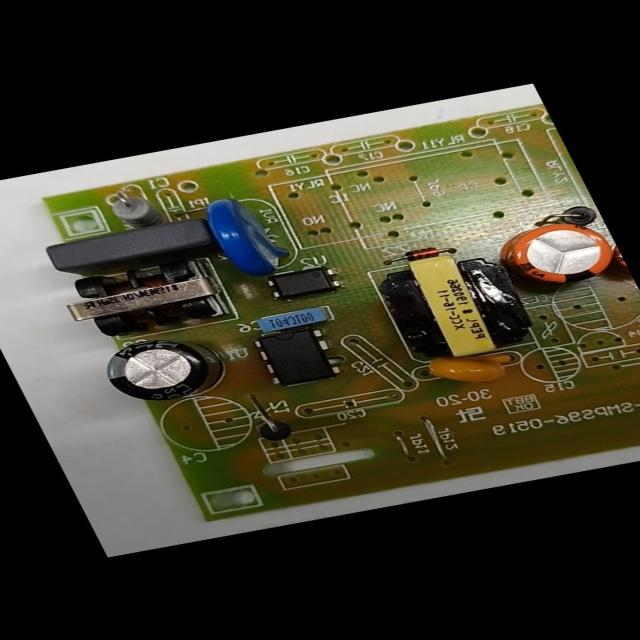Cap1: (492, 214, 625, 291)
Cap3: (93, 330, 239, 405)
MOSFET: (248, 325, 342, 385)
Mov: (199, 192, 291, 274)
Resistor: (104, 188, 169, 230)
Transformer: (364, 244, 540, 364), (55, 259, 226, 339)
